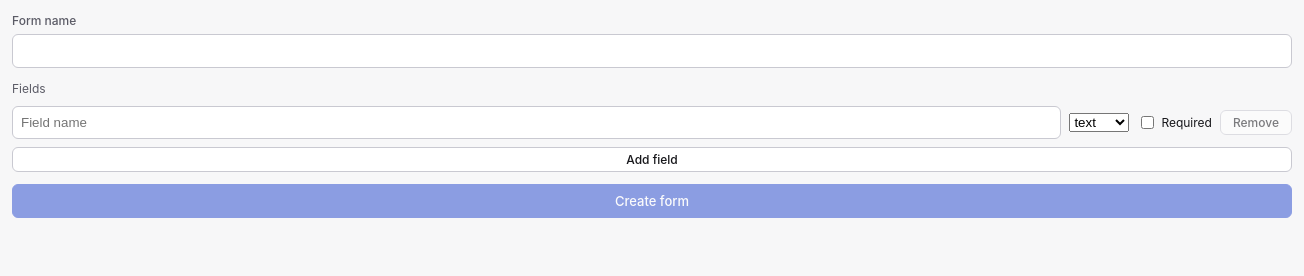
Test case: CreateFormForm › Add field / Remove field manage the dynamic row list
The width and height of the screenshot is (1304, 276).
Expected: the number of fields with placeholder "Field name" is 1, [12,106,1061,139]
Click the button "Add field". click: click(652, 160)
box: [12,147,1292,172]
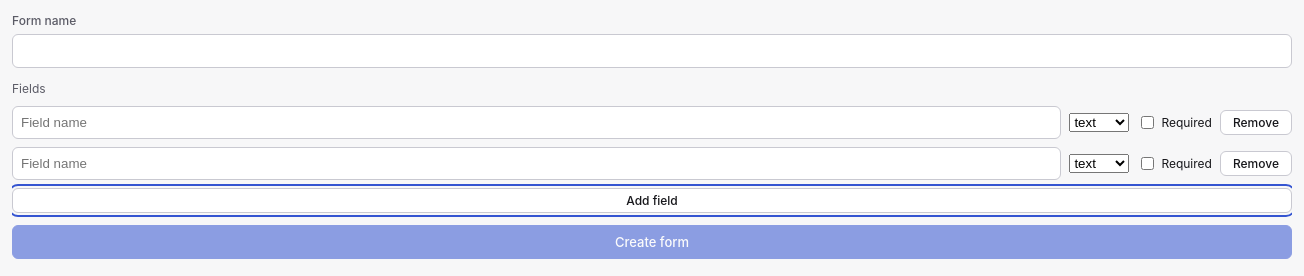
Result: the number of fields with placeholder "Field name" is 2 at [12,106,1061,139]; [12,147,1061,180]
Click the 1st button "Remove". click: click(1256, 122)
box: [1220,110,1292,135]
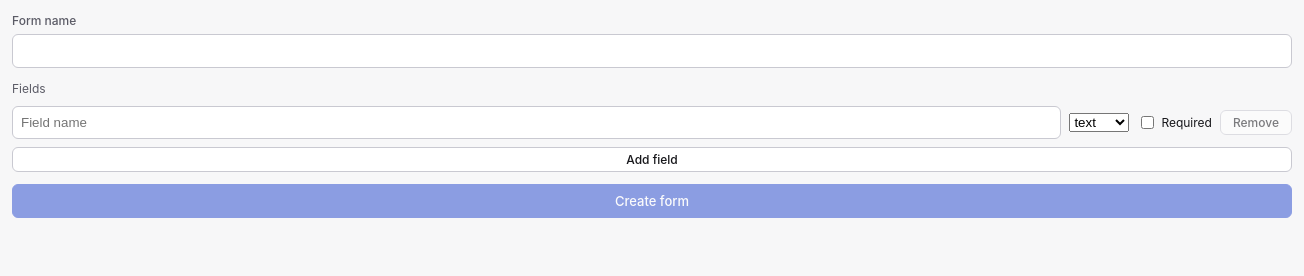
Result: the number of fields with placeholder "Field name" is 1 at [12,106,1061,139]
